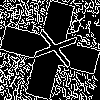X: (25, 25, 77, 69)
